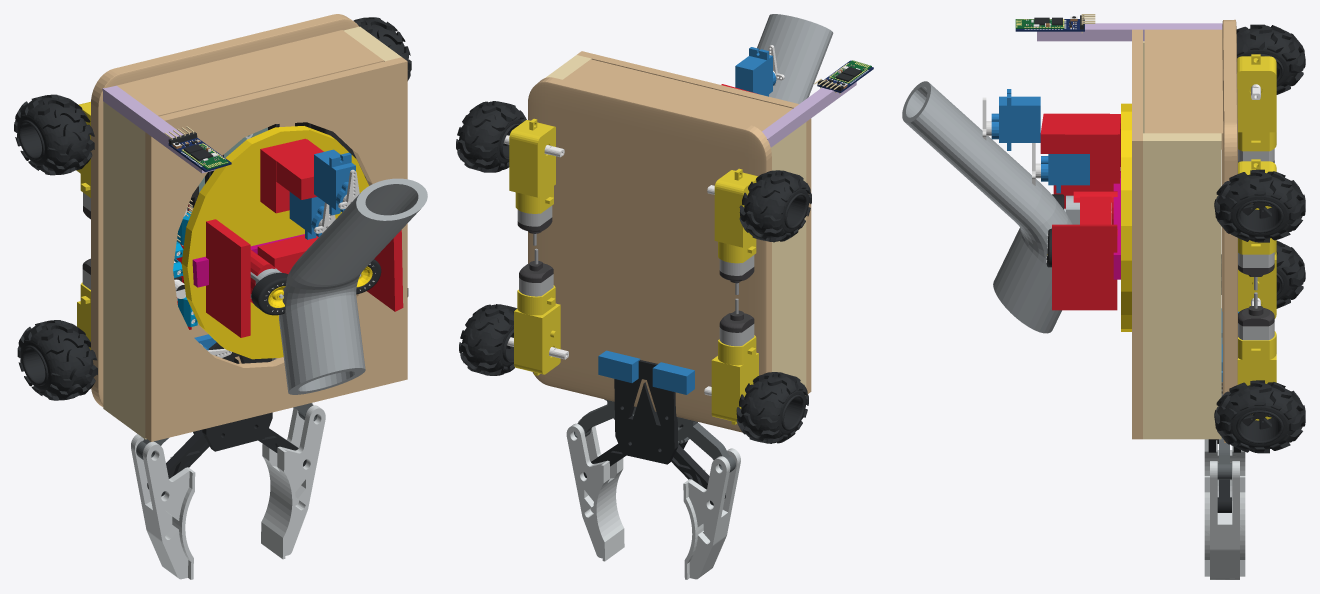
Rendered from tinker.obj.
3 views of the same model, side by side, from view 1: azimuth 30°, elevation 25°; view 2: azimuth 150°, elevation 25°; view 3: azimuth 270°, elevation 25° (orthographic). The views are drawn at different scales.
Parts seen in each view (by area): view 1: group_0_14860437, group_0_2829873, group_0_10988977, group_0_16311991, group_0_16768282, group_0_14541540, group_0_15277357, group_0_3049418, group_0_13877221, group_0_15981361, group_0_15592941, group_0_40919 (+1 smaller); view 2: group_0_14860437, group_0_2829873, group_0_15981361, group_0_14541540, group_0_16311991, group_0_10988977, group_0_3049418, group_0_12369600, group_0_6383466, group_0_4276290, group_0_13877221, group_0_16777215; view 3: group_0_16311991, group_0_14860437, group_0_2829873, group_0_10988977, group_0_15277357, group_0_15981361, group_0_14541540, group_0_3049418, group_0_16768282, group_0_13877221, group_0_12369600, group_0_4276290 (+3 smaller).
Boxes of the visible parts, bbox=[...] form: group_0_14860437: bbox=[91, 14, 407, 441]; group_0_2829873: bbox=[14, 17, 411, 496]; group_0_10988977: bbox=[278, 178, 427, 394]; group_0_16311991: bbox=[103, 26, 401, 439]; group_0_16768282: bbox=[181, 126, 372, 359]; group_0_14541540: bbox=[131, 140, 361, 579]; group_0_15277357: bbox=[206, 138, 403, 337]; group_0_3049418: bbox=[194, 149, 355, 350]; group_0_13877221: bbox=[102, 85, 215, 173]; group_0_15981361: bbox=[76, 101, 90, 350]; group_0_15592941: bbox=[200, 169, 359, 357]; group_0_40919: bbox=[173, 211, 197, 327]; group_0_14860437: bbox=[528, 51, 811, 432]; group_0_2829873: bbox=[456, 66, 863, 505]; group_0_15981361: bbox=[509, 118, 758, 424]; group_0_14541540: bbox=[566, 63, 868, 579]; group_0_16311991: bbox=[545, 55, 840, 395]; group_0_10988977: bbox=[757, 14, 833, 103]; group_0_3049418: bbox=[598, 47, 776, 394]; group_0_12369600: bbox=[517, 205, 754, 346]; group_0_6383466: bbox=[574, 399, 735, 472]; group_0_4276290: bbox=[517, 217, 754, 332]; group_0_13877221: bbox=[762, 82, 856, 147]; group_0_16777215: bbox=[503, 135, 714, 395]; group_0_16311991: bbox=[1081, 14, 1221, 439]; group_0_14860437: bbox=[1132, 19, 1237, 442]; group_0_2829873: bbox=[1028, 15, 1305, 512]; group_0_10988977: bbox=[902, 81, 1072, 333]; group_0_15277357: bbox=[1040, 113, 1120, 310]; group_0_15981361: bbox=[1237, 54, 1276, 420]; group_0_14541540: bbox=[1024, 20, 1245, 579]; group_0_3049418: bbox=[991, 89, 1239, 381]; group_0_16768282: bbox=[1047, 103, 1131, 331]; group_0_13877221: bbox=[1037, 23, 1222, 41]; group_0_12369600: bbox=[1238, 149, 1274, 340]; group_0_4276290: bbox=[1238, 160, 1274, 326].
Bounding box in the file's own units: 216 × 292 × 221.
